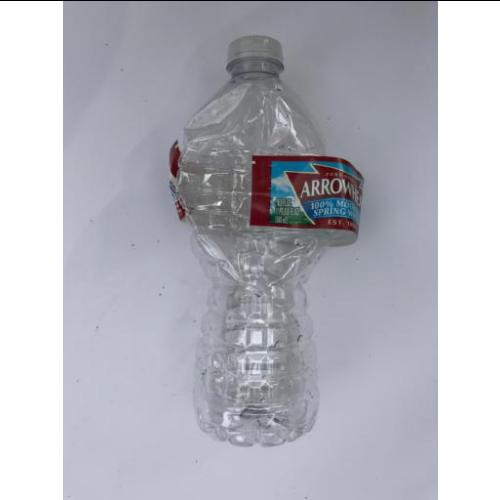plastic: (171, 35, 366, 448)
